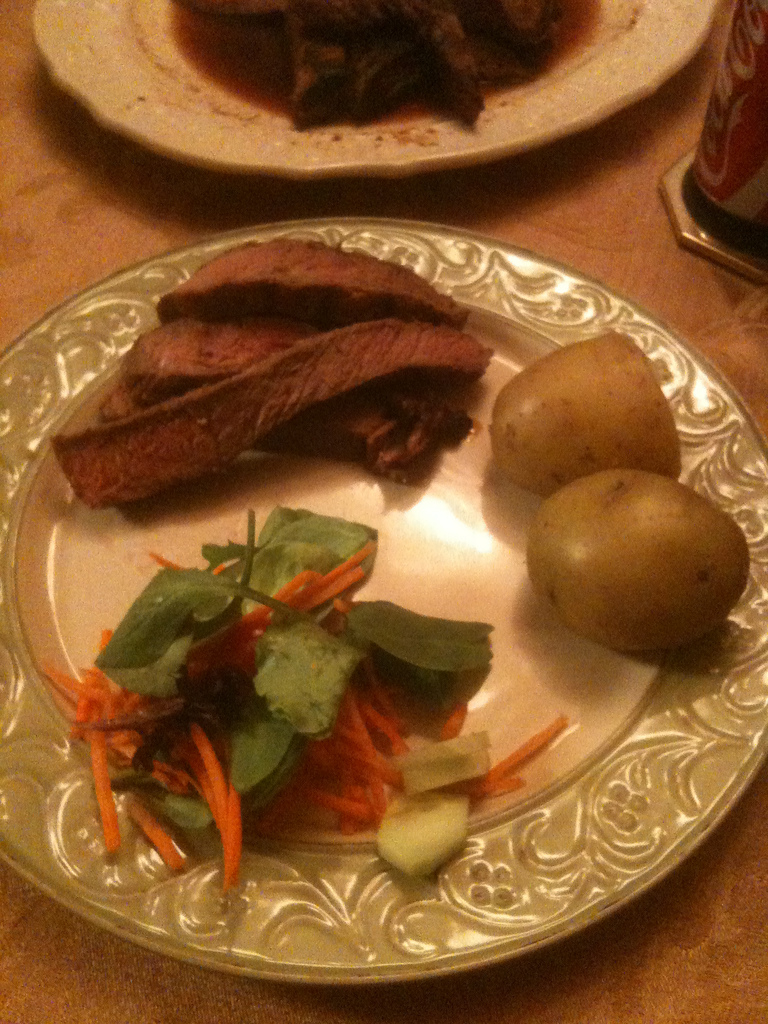boiled potatoes: (514, 481, 764, 648), (503, 348, 693, 481)
